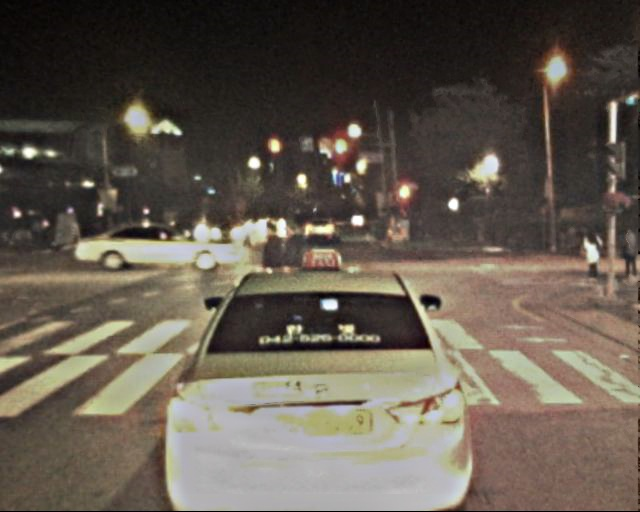person: (278, 216, 312, 321), (258, 218, 291, 316), (617, 227, 639, 285), (580, 228, 602, 281)
